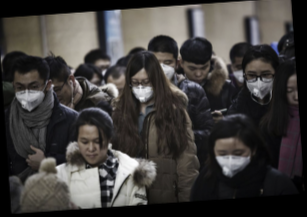with_mask: (213, 146, 251, 179), (14, 77, 46, 111), (245, 67, 275, 99), (130, 74, 155, 102), (156, 56, 176, 80), (230, 61, 245, 84)
without_mask: (76, 133, 109, 164), (182, 61, 211, 83), (51, 82, 73, 105), (285, 82, 298, 112)
